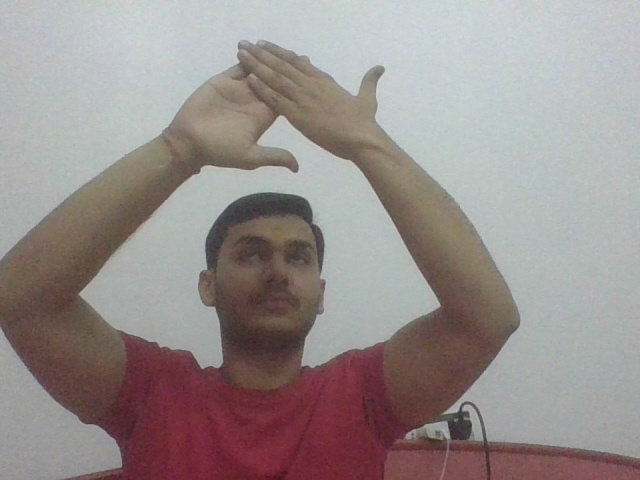H: (170, 37, 391, 178)
